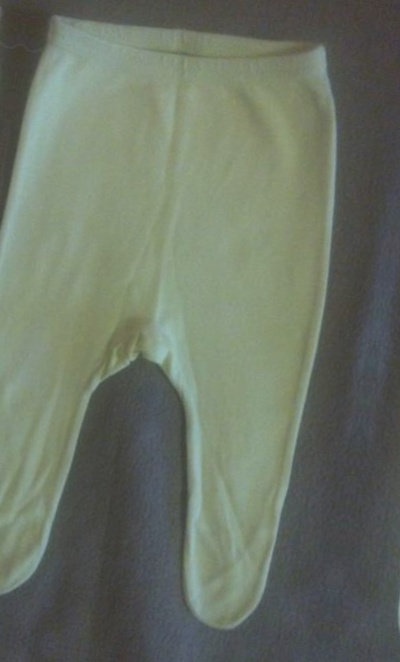Pants: (0, 0, 375, 649), (371, 63, 400, 662), (0, 0, 28, 591), (0, 657, 263, 662)
